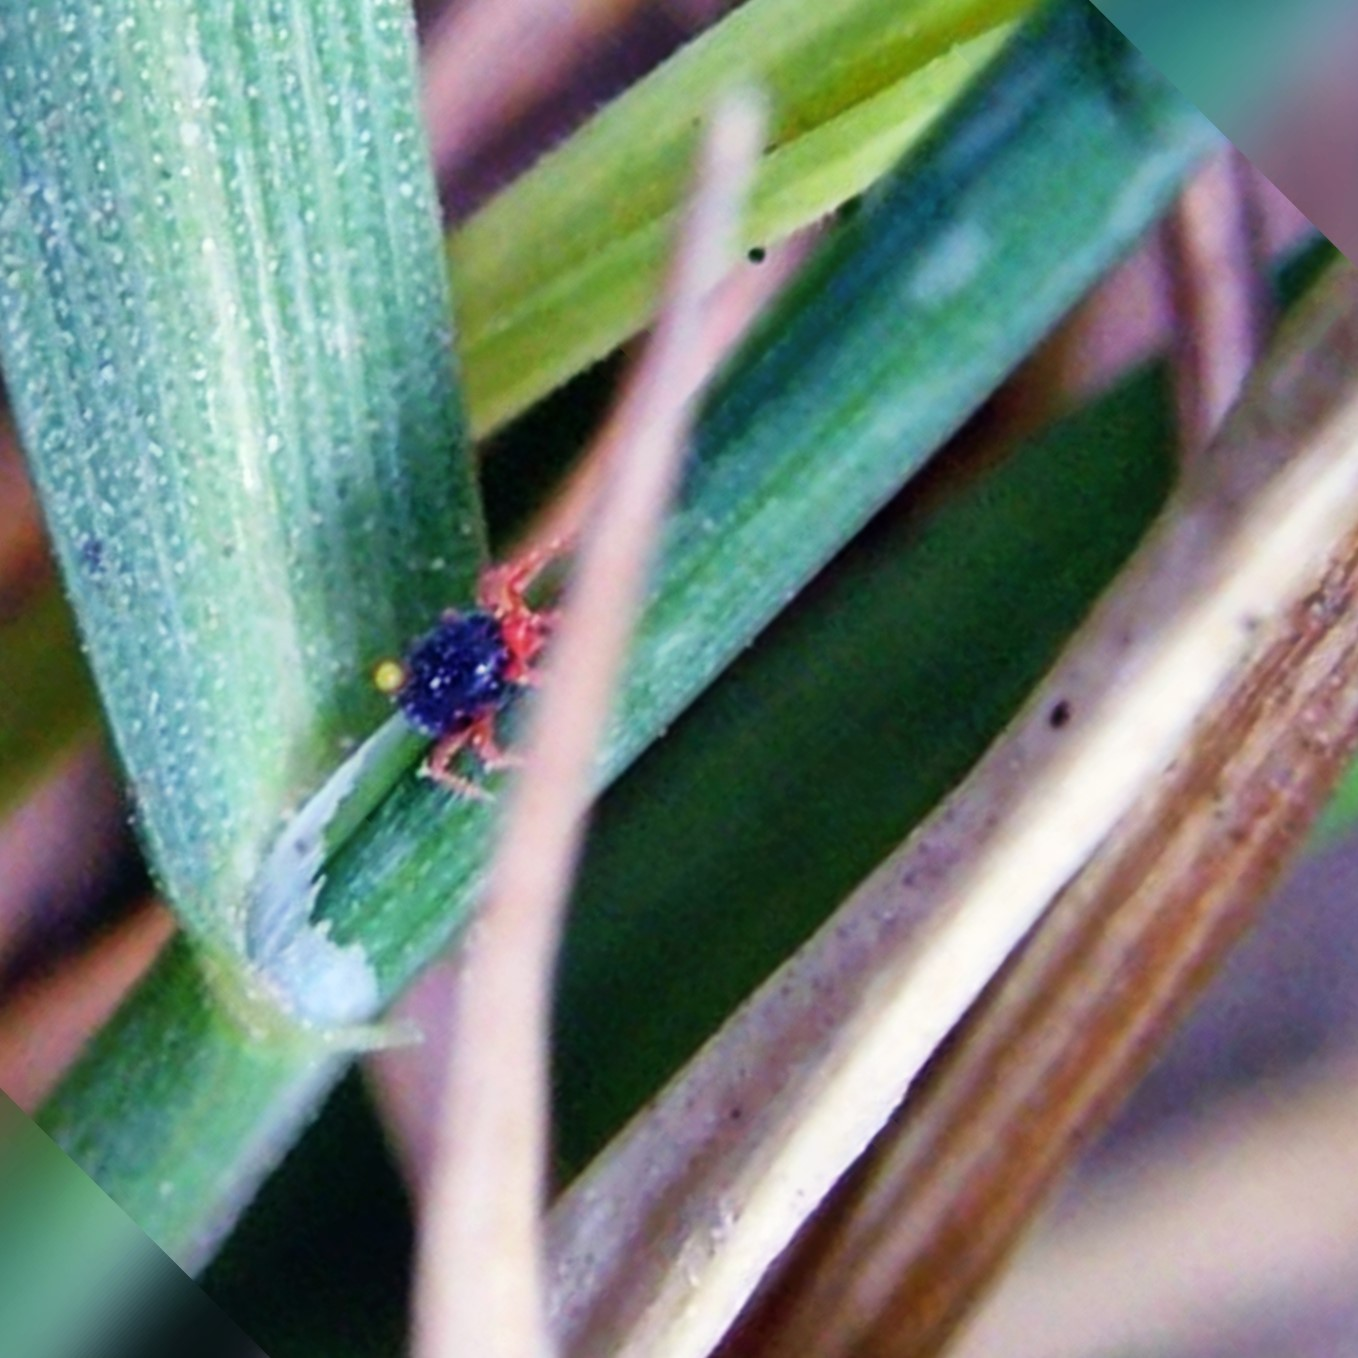Wheat Red Spider: (349, 505, 642, 820)
